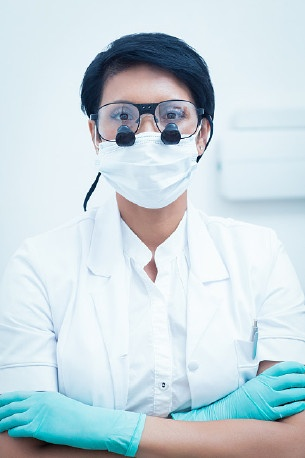Mask: (100, 102, 200, 201)
